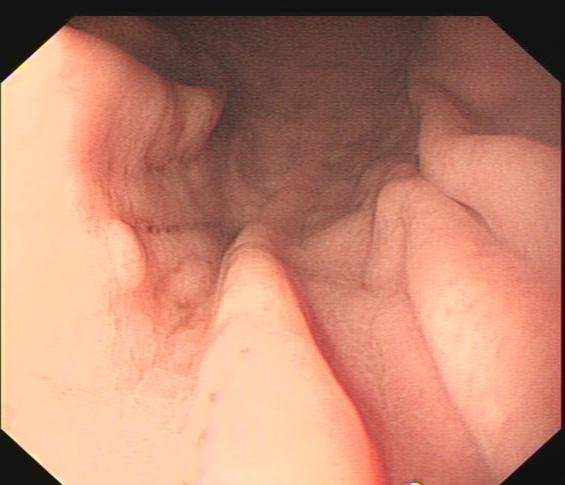Polyp: (92, 215, 147, 294), (152, 253, 218, 307)
